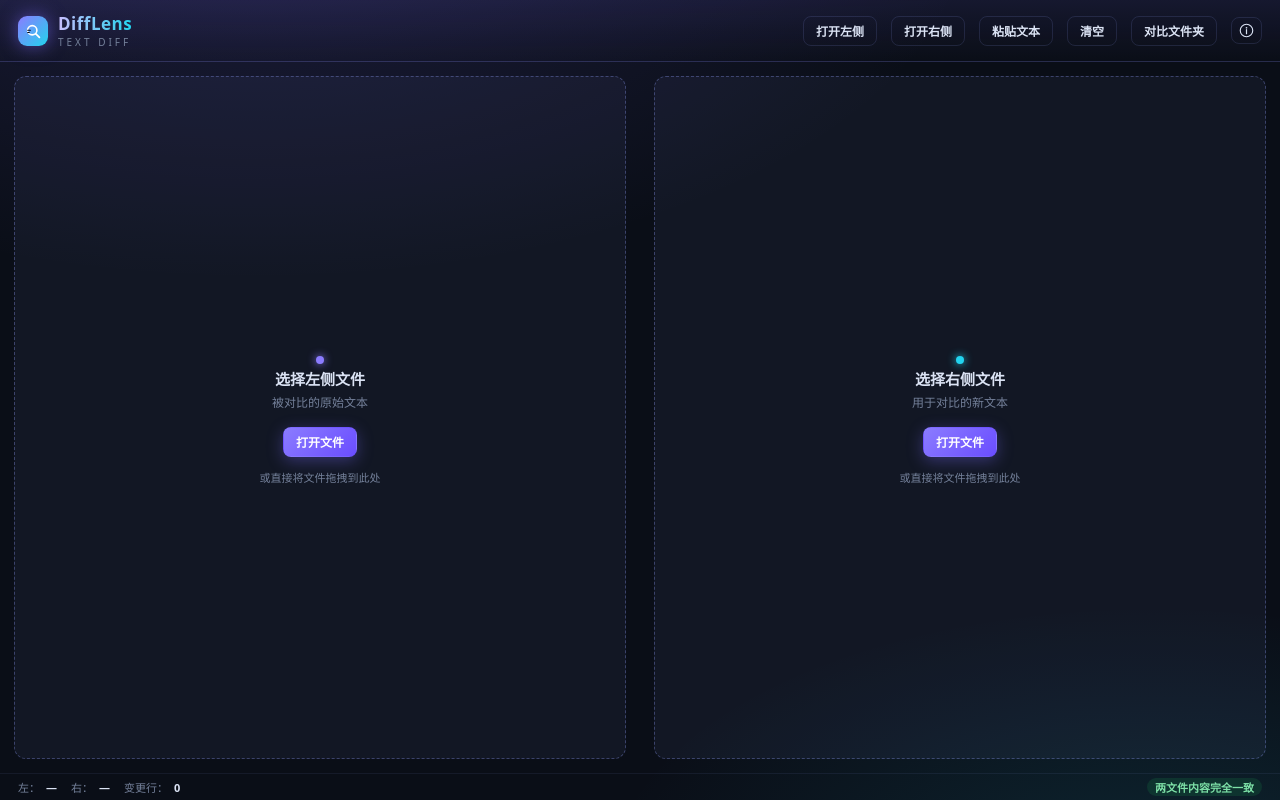
Test: App - 差异导航与清空 › 点击下一处差异触发定位（覆盖 go）
Click the button "打开左侧" at (840, 30), box [803, 16, 877, 46]
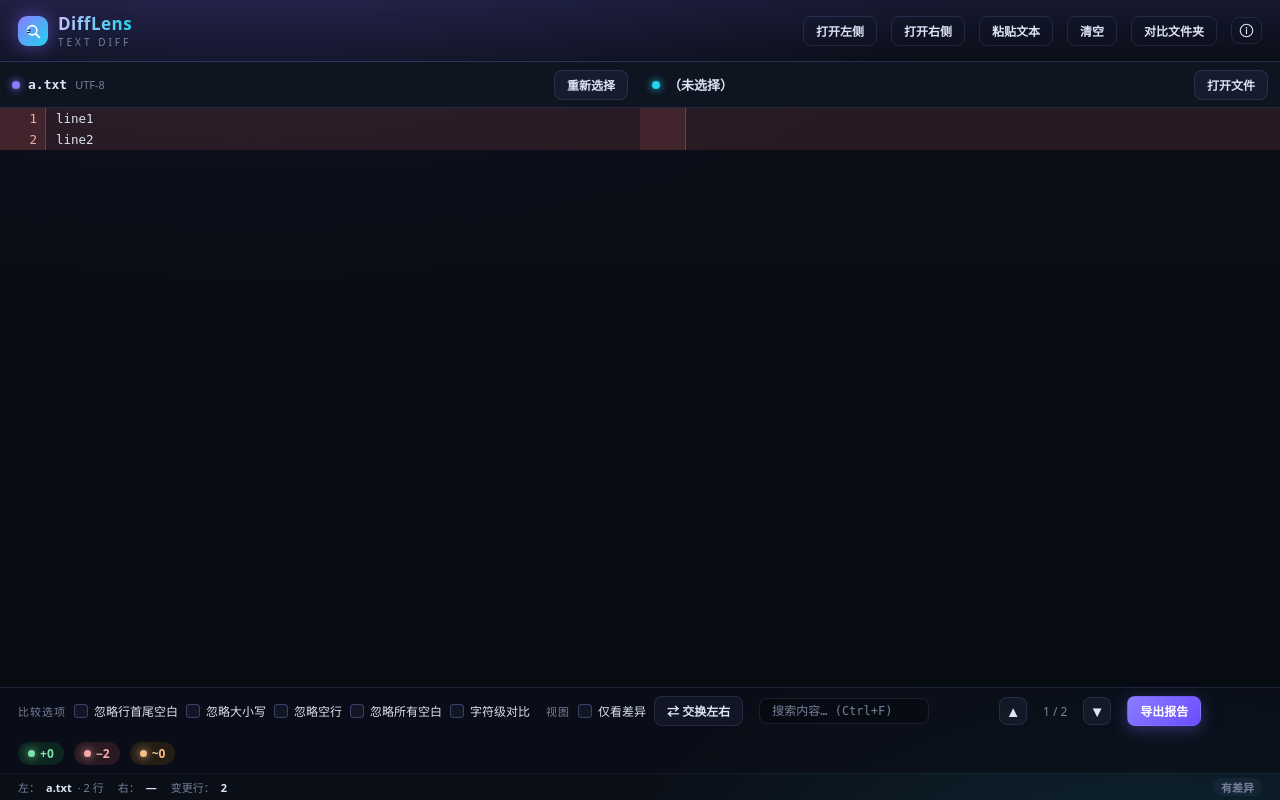
Expected: the button "导出报告" is shown, [1127, 696, 1201, 726]
Expected: the text "1 / 2" is shown, [1043, 702, 1067, 720]
Click the button titled "下一处差异" at (1097, 711), box [1083, 697, 1111, 725]
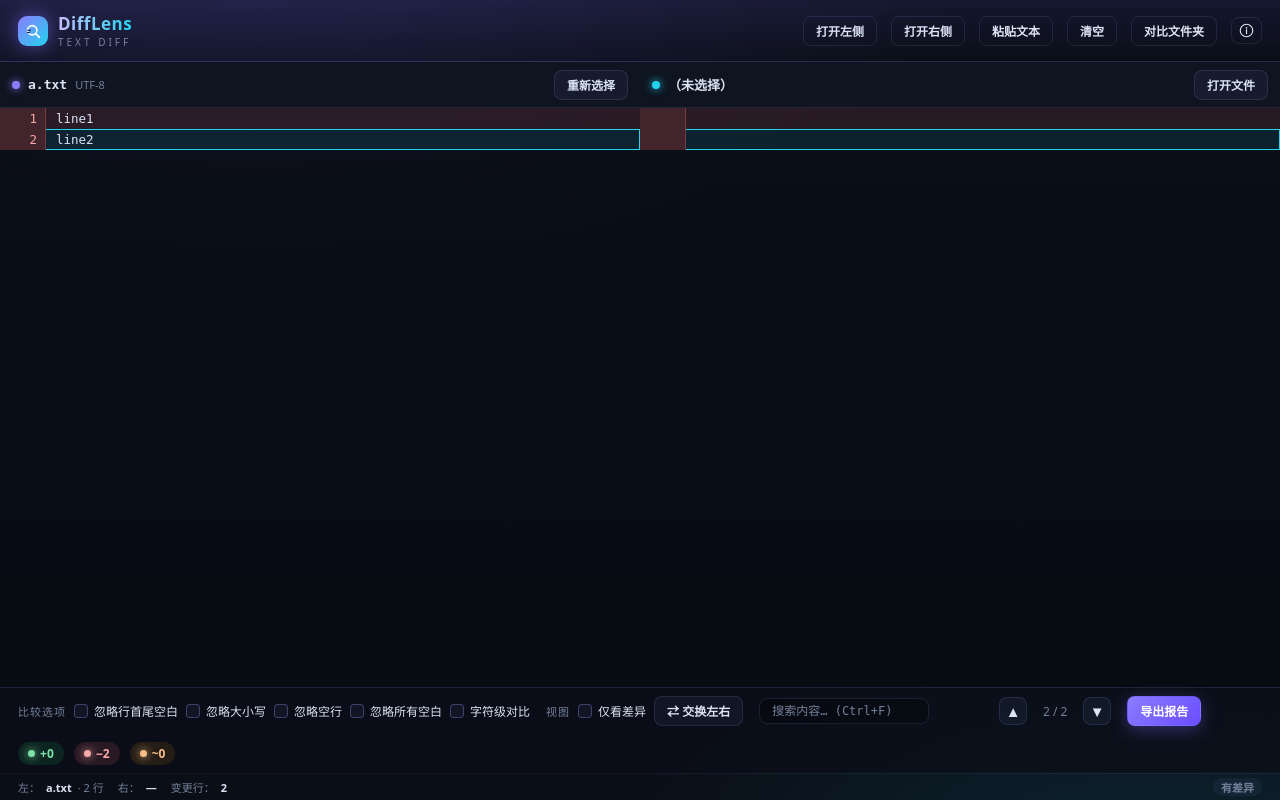
Expected: the text "2 / 2" is shown, [1043, 702, 1067, 720]
